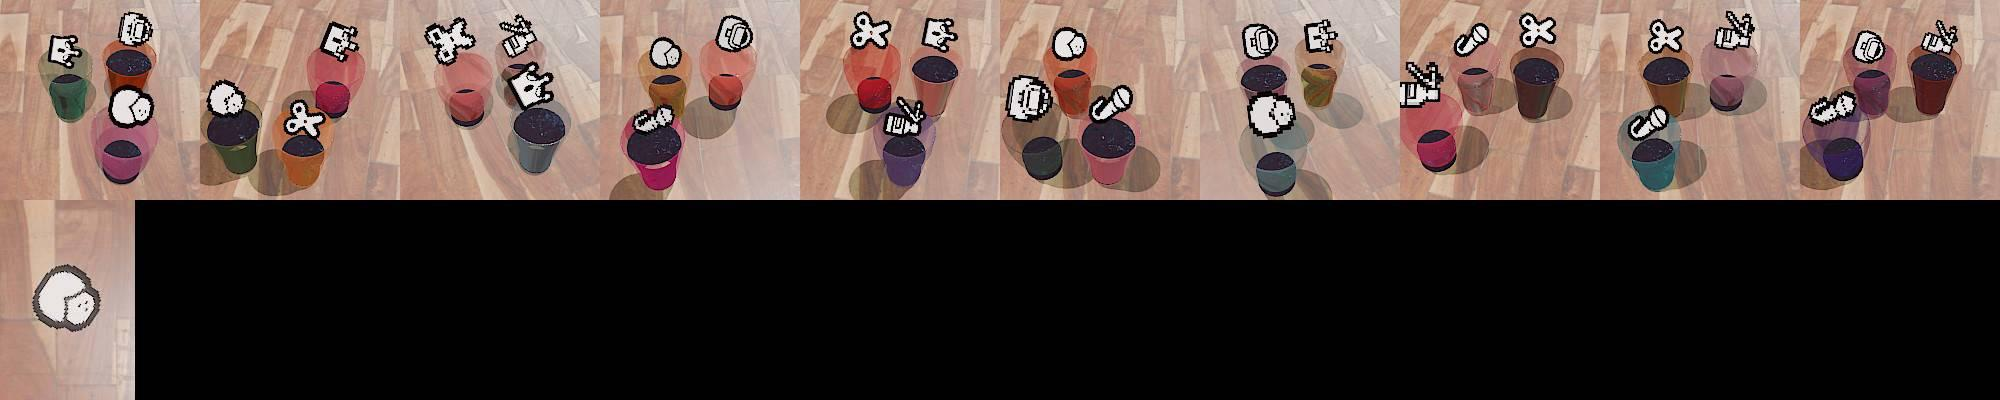icon: (31, 264, 103, 333), (424, 16, 477, 66), (1246, 91, 1297, 137), (1004, 75, 1052, 123), (881, 91, 927, 138), (1401, 60, 1443, 108), (497, 14, 540, 60), (107, 85, 154, 127), (1807, 90, 1857, 126), (284, 97, 326, 139), (1714, 10, 1757, 51), (850, 10, 893, 51), (319, 19, 360, 61), (204, 78, 247, 118), (1088, 85, 1133, 122), (920, 16, 960, 55), (715, 14, 755, 53), (1628, 105, 1671, 140), (1518, 12, 1558, 49), (1242, 22, 1279, 61), (1920, 19, 1959, 55), (1647, 18, 1686, 54), (631, 103, 676, 134), (1303, 18, 1340, 55), (1454, 20, 1491, 57), (46, 33, 84, 69), (118, 11, 155, 47), (1050, 26, 1088, 61), (1852, 29, 1886, 64), (649, 36, 682, 70), (514, 69, 552, 98)
